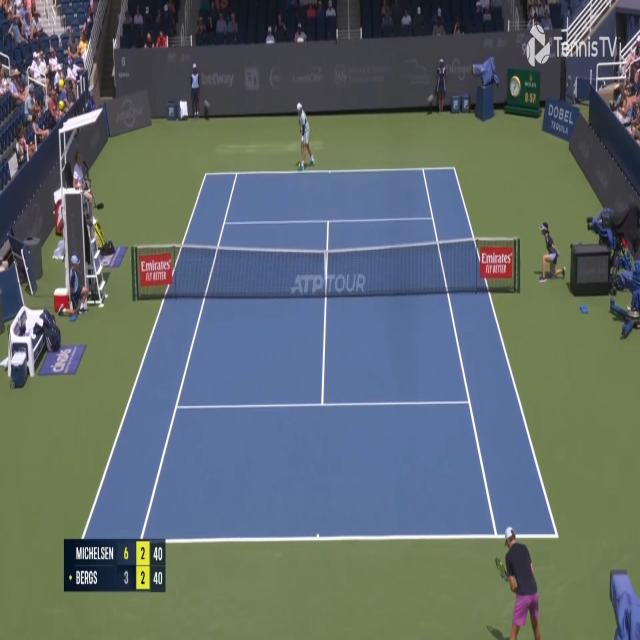tennis-player: (487, 524, 546, 639), (293, 99, 317, 172)
